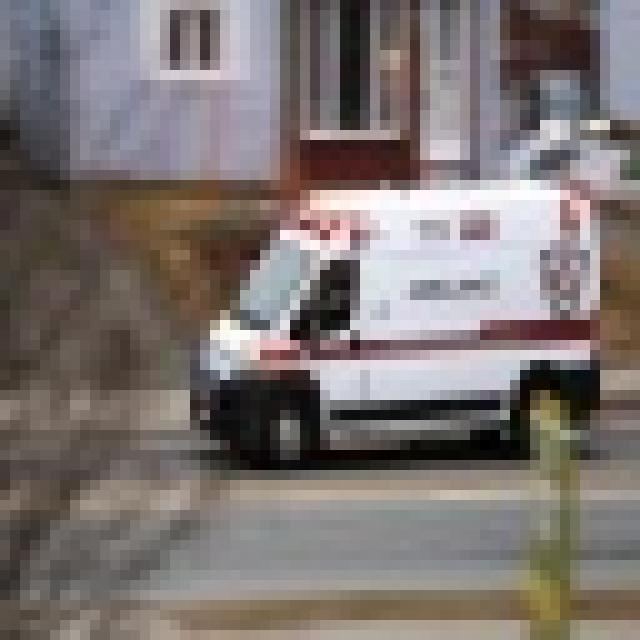Ambulance: (180, 170, 600, 460)
